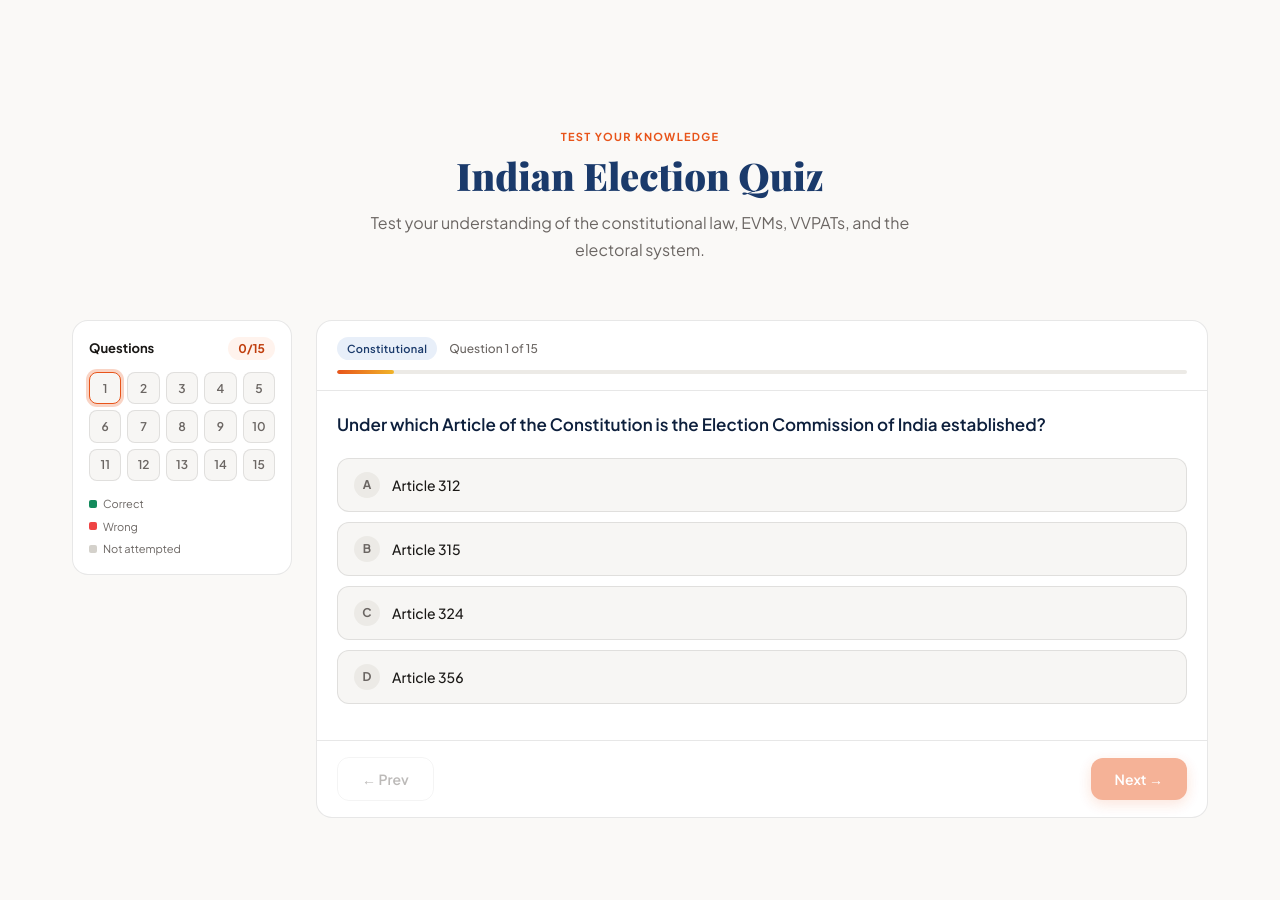
Test: Quiz Component › can navigate through questions
expect the button "Next →" is disabled: met, box left=1091, top=758, right=1187, bottom=800
Click the button "A Article 312" at x=426, y=485, box left=337, top=458, right=1187, bottom=512
(page scrolled)
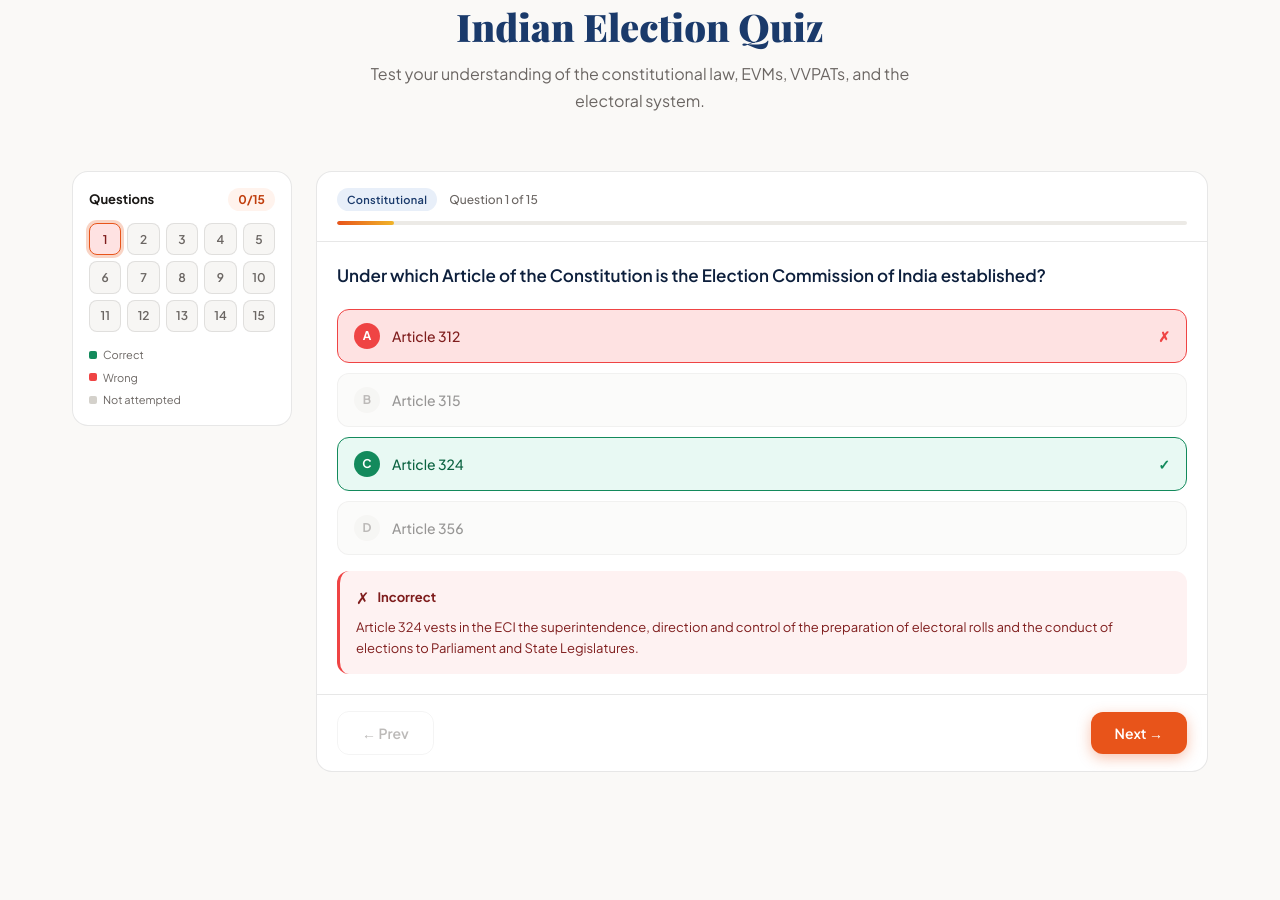
expect the button "Next →" is enabled: met
Click the button "Next →" at x=1139, y=733, box left=1091, top=712, right=1187, bottom=754
(page scrolled)
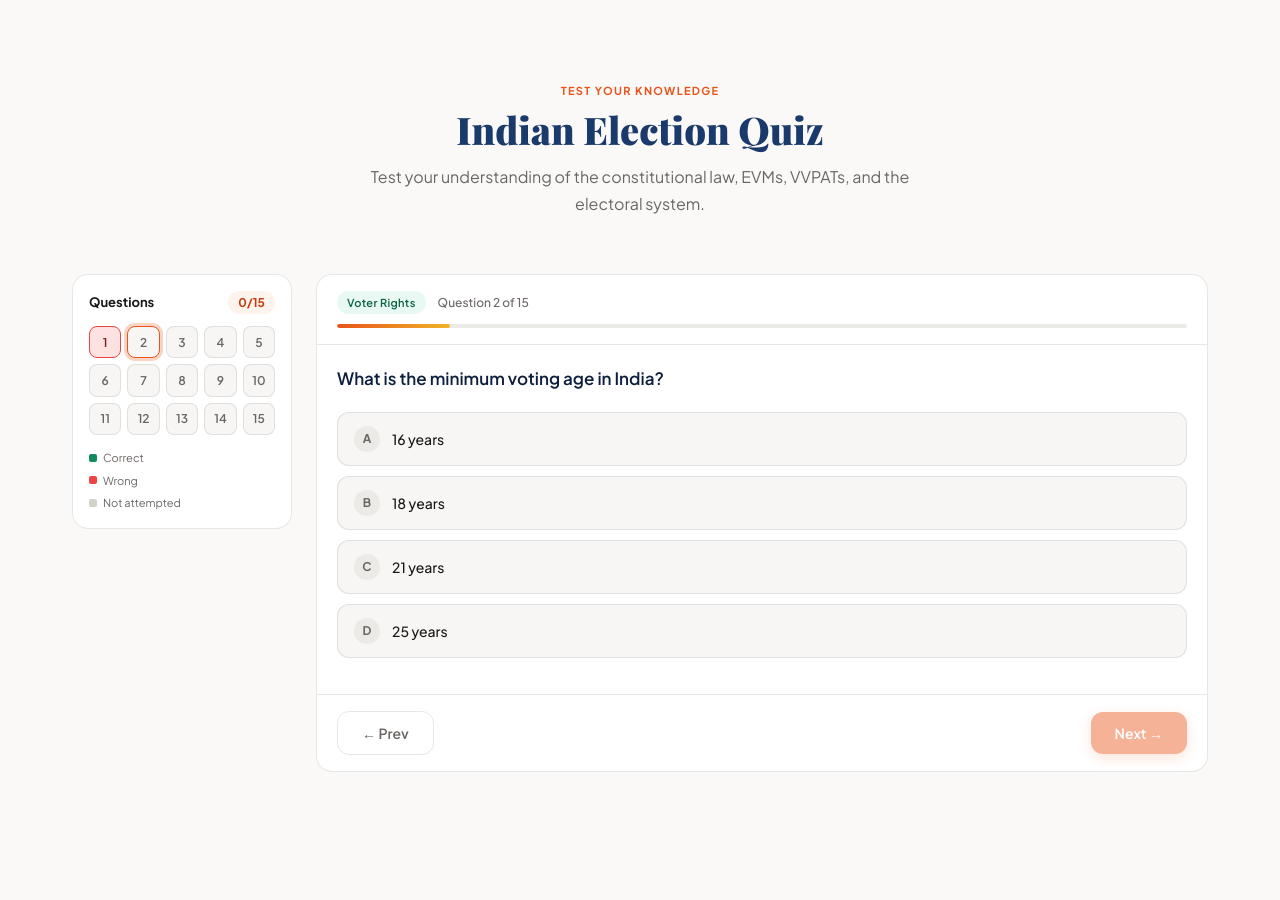
expect the text "Question 2 of 15" is shown: met, box left=438, top=293, right=529, bottom=312
